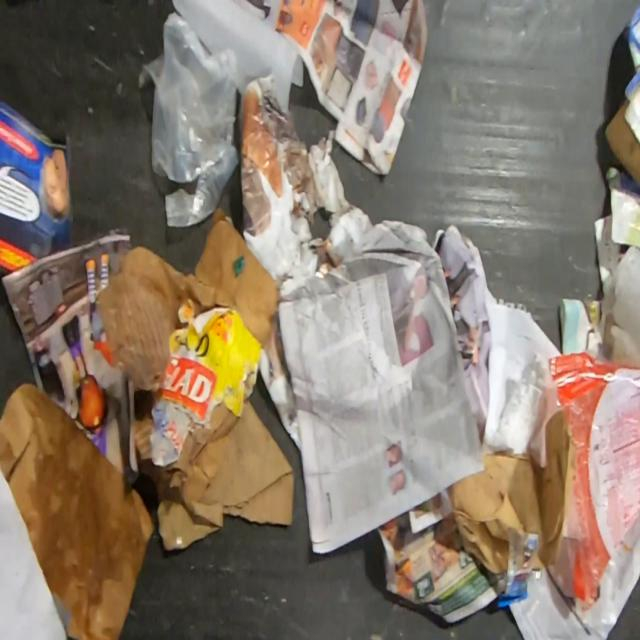cardboard: (93, 205, 283, 466), (0, 378, 156, 639), (137, 399, 296, 553), (603, 0, 639, 192), (545, 351, 623, 400)
soft_plastic: (503, 366, 640, 640), (137, 8, 249, 228)
